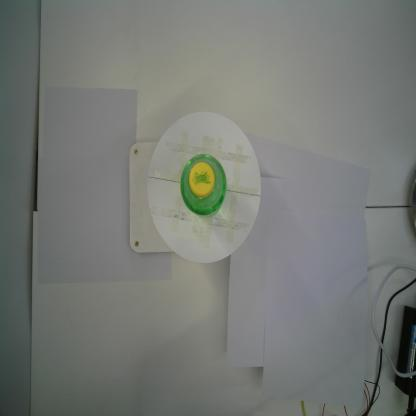Drink: (180, 154, 226, 217)
